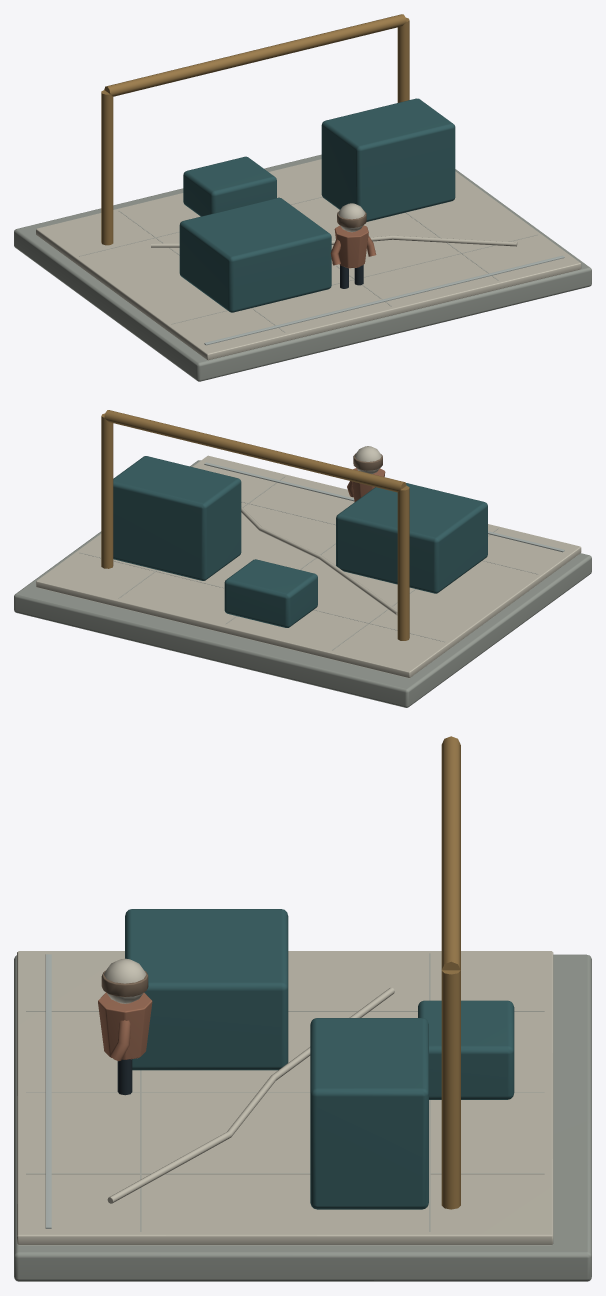
The model's file is idea-b2879bd0.glb.
3 renders of one model, top to bottom at view 1: azimuth 30°, elevation 25°; view 2: azimuth 150°, elevation 25°; view 3: azimuth 270°, elevation 25°, orthographic. The views are drawn at different scales.
Parts seen in each view (by area): view 1: World Chase Tag Rig; view 2: World Chase Tag Rig; view 3: World Chase Tag Rig.
Boxes of the visible parts, x1,y1,x2,y2 form: World Chase Tag Rig: (14,14,591,381); World Chase Tag Rig: (14,410,591,707); World Chase Tag Rig: (14,736,591,1281).
Bounding box in the file's own units: 4.8 × 2.12 × 3.9.
